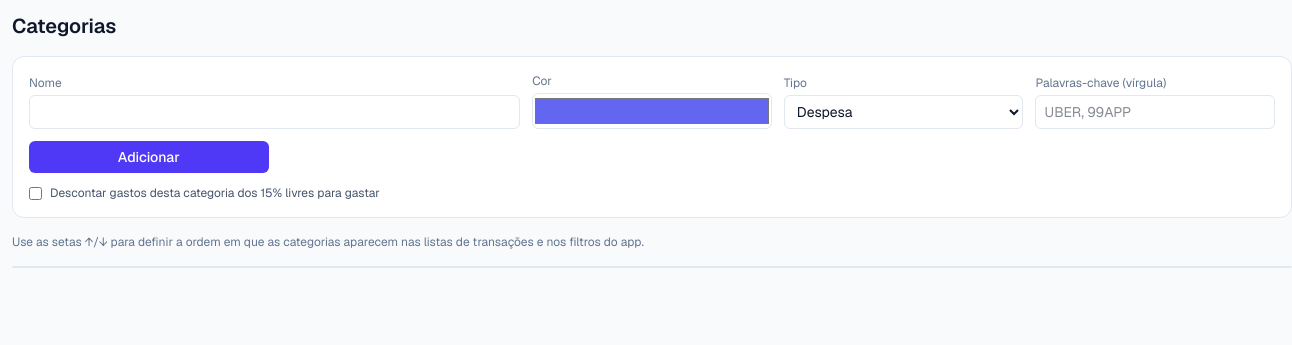
Scenario: página /categorias — criação › limpa o formulário e recarrega a lista depois de criar
The width and height of the screenshot is (1292, 345).
Type "Pets" into the 1st field at [275, 112], box [29,95,520,129]
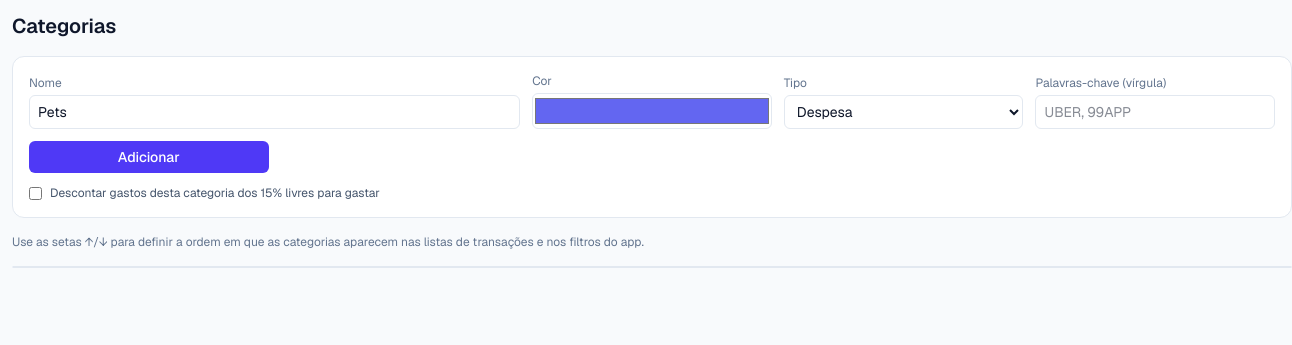
Type "PETZ" into the field with placeholder "UBER, 99APP" at [1155, 112], box [1035,95,1275,129]
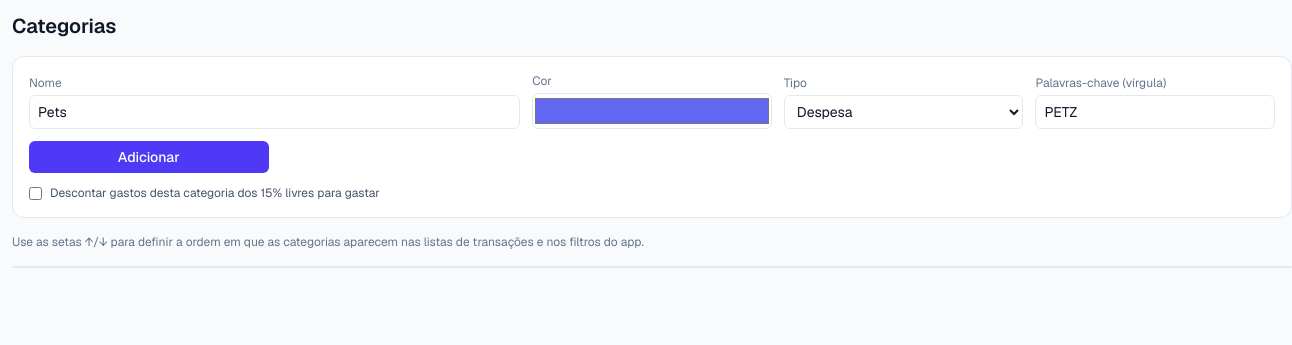
Submit the form, box [12,56,1291,218]
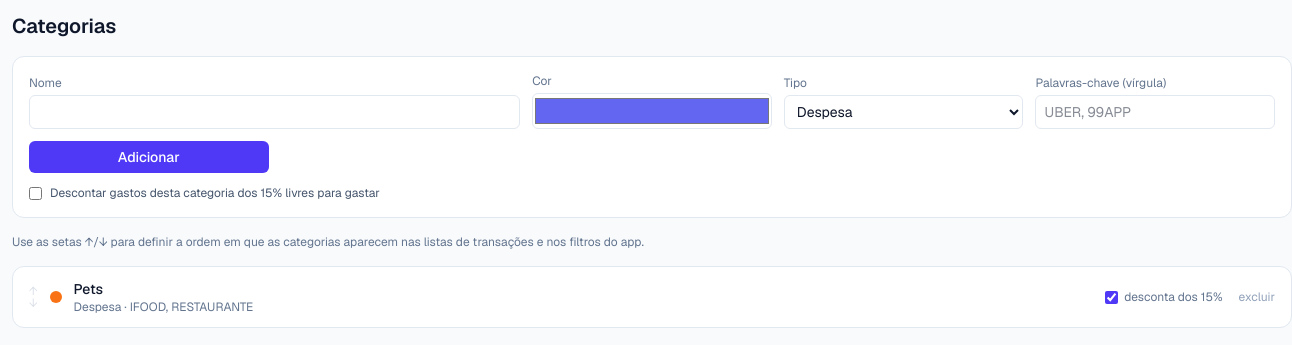
Now the field with placeholder "UBER, 99APP" is empty, box [1035,95,1275,129]
Now the text "Pets" is shown, box [74,280,103,298]
